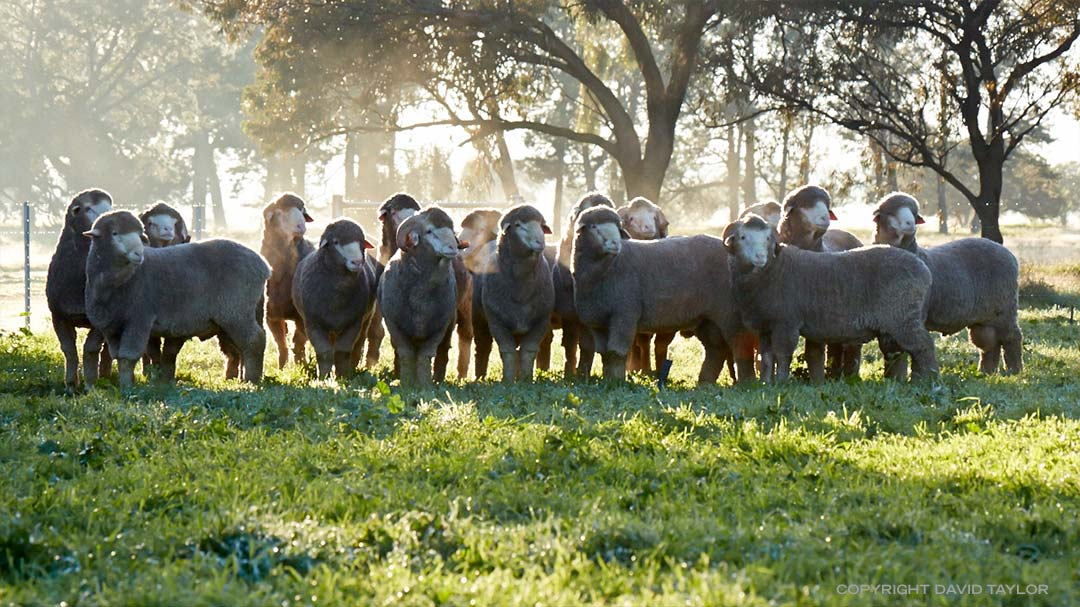sheep: (722, 210, 941, 381), (561, 204, 759, 385), (81, 209, 270, 387), (870, 189, 1026, 374), (45, 186, 164, 379), (772, 186, 881, 385), (465, 201, 579, 388), (608, 195, 708, 378), (375, 202, 461, 393), (296, 213, 388, 384), (258, 192, 333, 376)
